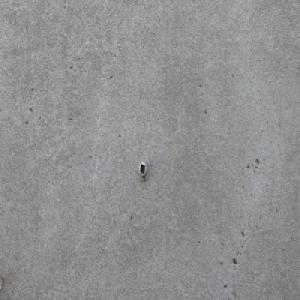MetalPart: (138, 161, 148, 183)
